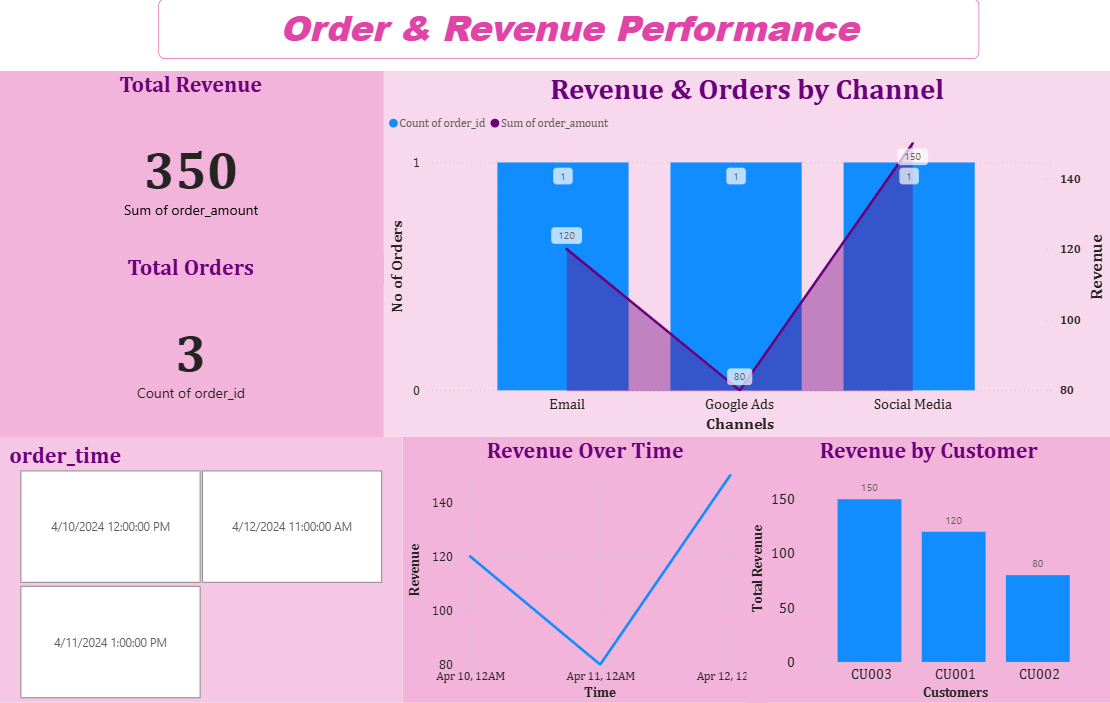

What the dashboard file says about the page in this screenshot:
{"tool":"powerbi","page":{"name":"Page 2: Order & Revenue Performance","canvas":[1280,785],"ordinal":1},"visuals":[{"type":"textbox","title":"Order & Revenue Performance","box":[187.2,0,807.7,80.9],"z":0},{"type":"card","title":"Total Revenue","fields":{"Values":["Sum(orders.order_amount)"]},"box":[0,57,442.9,211],"z":1000},{"type":"card","title":"Total Orders","fields":{"Values":["Count(orders.order_id)"]},"box":[0,268,442.9,209.1],"z":2000},{"type":"lineClusteredColumnComboChart","title":"Revenue & Orders by Channel","fields":{"Category":["customers.channel"],"Y":["Count(orders.order_id)"],"Y2":["Sum(orders.order_amount)"]},"box":[442.9,57,836.4,420.1],"z":3000},{"type":"lineChart","title":"Revenue Over Time","fields":{"Y":["Sum(orders.order_amount)"],"Category":["orders.order_time.Variation.Date Hierarchy.Year","orders.order_time.Variation.Date Hierarchy.Quarter","orders.order_time.Variation.Date Hierarchy.Month","orders.order_time.Variation.Date Hierarchy.Day"]},"box":[465.7,477.2,418.2,308],"z":4000},{"type":"slicer","fields":{"Values":["orders.order_time"]},"box":[0,477.2,465.7,308],"z":5000},{"type":"columnChart","title":"Revenue by Customer","fields":{"Category":["orders.customer_id"],"Y":["Sum(orders.order_amount)"]},"box":[861.2,477.2,418.2,308],"z":6000}]}

Visuals, with their boxes on the page's 1280x785 design canvas (x1, y1, x2, y2). These are canvas units, not pixel positions in the 1110x703 screenshot, which may show the page scaled, cropped or inside an application window:
"Order & Revenue Performance" textbox: (x1=187, y1=0, x2=995, y2=81)
"Total Revenue" card: (x1=0, y1=57, x2=443, y2=268)
"Total Orders" card: (x1=0, y1=268, x2=443, y2=477)
"Revenue & Orders by Channel" lineClusteredColumnComboChart: (x1=443, y1=57, x2=1279, y2=477)
"Revenue Over Time" lineChart: (x1=466, y1=477, x2=884, y2=785)
slicer - orders.order_time: (x1=0, y1=477, x2=466, y2=785)
"Revenue by Customer" columnChart: (x1=861, y1=477, x2=1279, y2=785)
